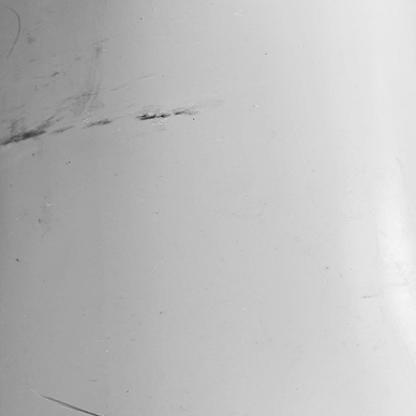sunshang: (40, 394, 104, 416), (1, 4, 25, 55)
